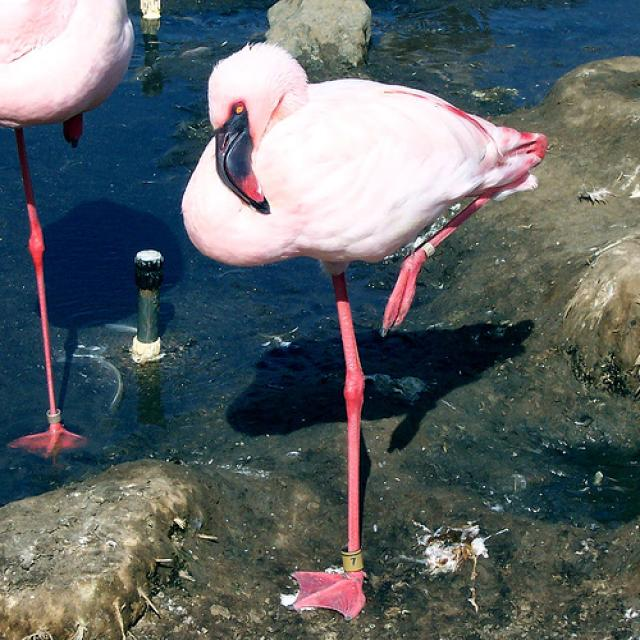bird: (181, 42, 549, 623), (1, 1, 135, 458)
